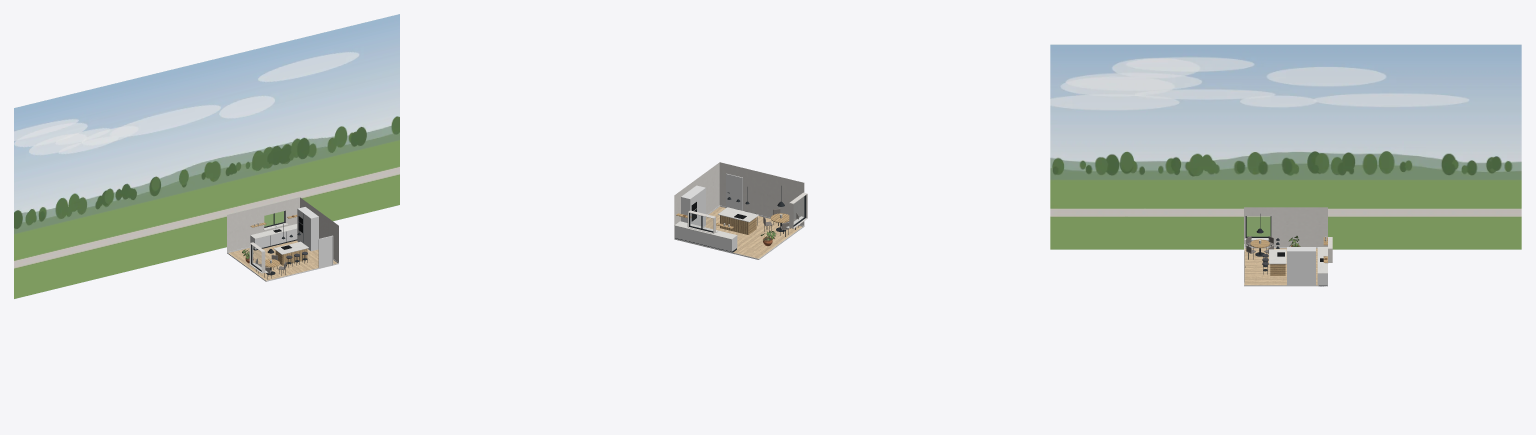
File: kitchen.glb
3 renders of one model, left to right at view 1: azimuth 30°, elevation 25°; view 2: azimuth 150°, elevation 25°; view 3: azimuth 270°, elevation 25°, orthographic. The views are drawn at different scales.
Parts seen in each view (by area): view 1: Mesh_21, kitchen_baked; view 2: kitchen_baked; view 3: Mesh_32, kitchen_baked.
Part boxes in pixels (x1,y1,x2,y2): Mesh_21: [14, 14, 399, 298]; kitchen_baked: [227, 197, 338, 281]; kitchen_baked: [674, 162, 807, 259]; Mesh_32: [1050, 44, 1521, 249]; kitchen_baked: [1244, 207, 1332, 286].
Bounding box in the file's own units: 29.6 × 14 × 29.2.
14 materials, 14 textured.
